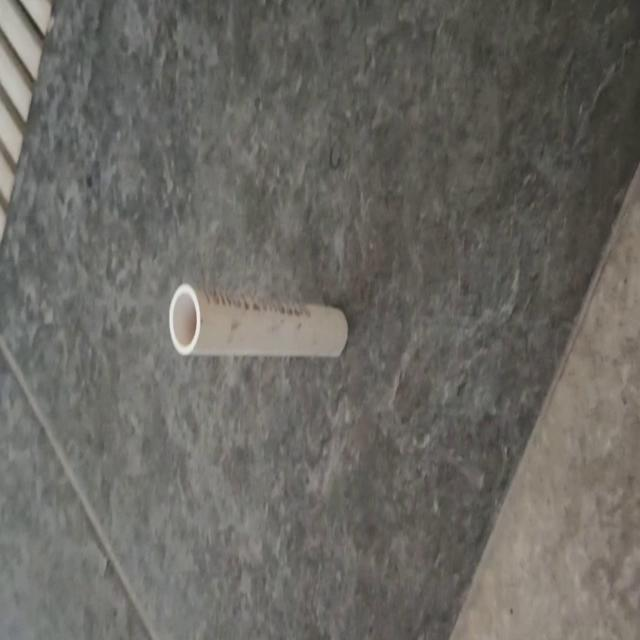Cube: (168, 280, 348, 359)
